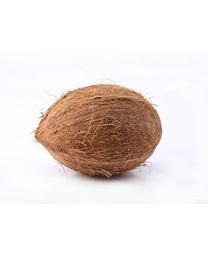coconut: (32, 84, 166, 179)
